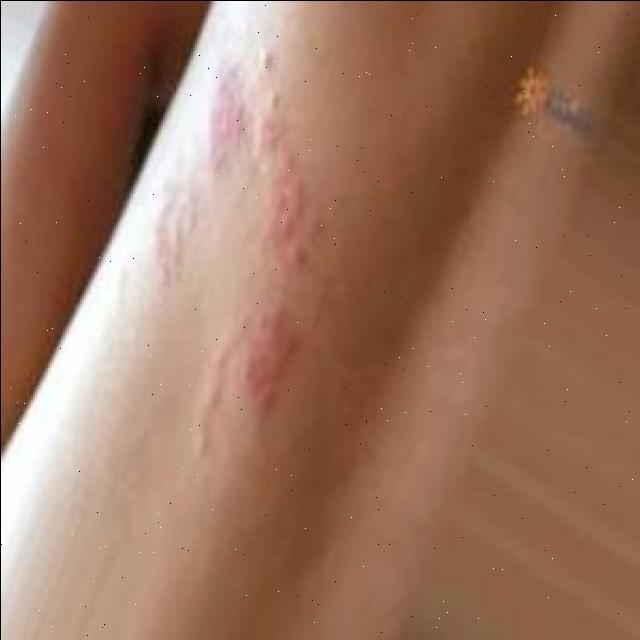Shingles: (152, 51, 312, 456)
